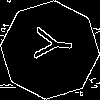Y: (25, 25, 74, 62)
